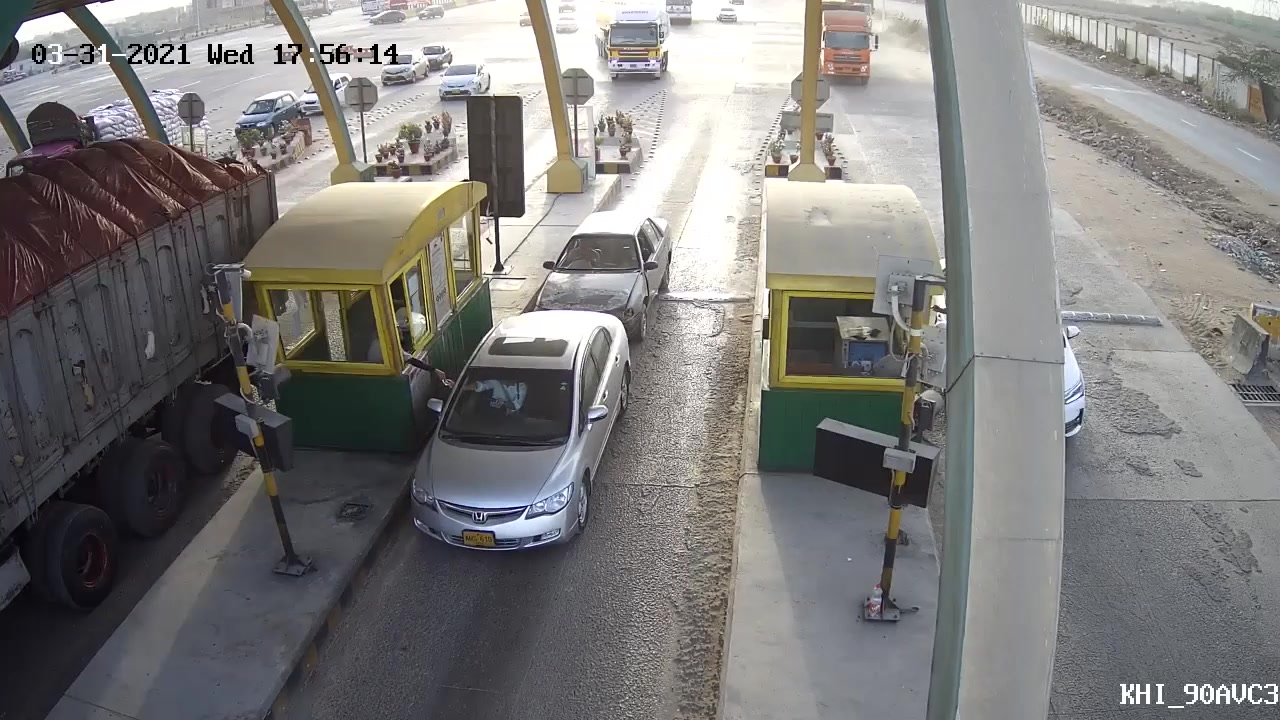F1: (404, 306, 639, 558)
